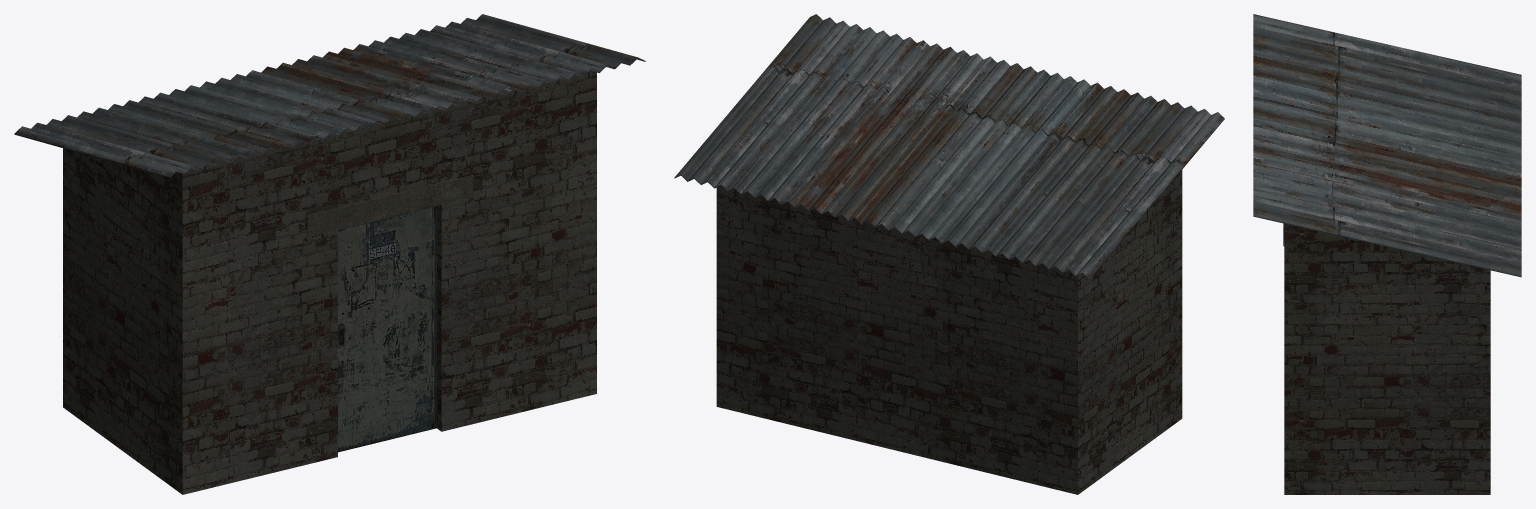
File: shed_ax_4.glb
The picture shows the model from 3 angles, left to right: view 1: azimuth 30°, elevation 25°; view 2: azimuth 150°, elevation 25°; view 3: azimuth 270°, elevation 25°; orthographic projection. The views are drawn at different scales.
Parts seen in each view (by area): view 1: shed_ax_4, door_hr_10; view 2: shed_ax_4; view 3: shed_ax_4.
Boxes of the visible parts, x1,y1,x2,y2 form: shed_ax_4: (14, 14, 645, 494); door_hr_10: (338, 206, 436, 452); shed_ax_4: (674, 14, 1224, 494); shed_ax_4: (1253, 14, 1521, 494).
Size of the model in its own units: 4.59 by 3.17 by 2.6.
Materials: 5 (5 with a texture image).
